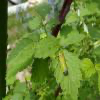Raspberry leaf: (5, 37, 41, 79), (53, 49, 83, 99), (31, 55, 51, 91), (34, 33, 58, 62), (59, 29, 87, 48), (80, 57, 96, 80), (36, 3, 52, 23), (27, 15, 45, 30), (45, 17, 62, 28), (60, 25, 73, 36), (94, 62, 99, 72)
